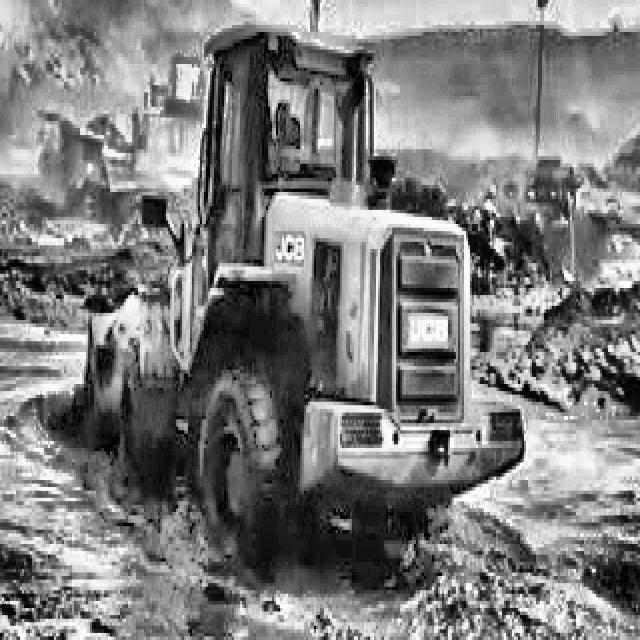buldozerpayloadergrader: (80, 18, 522, 589)
